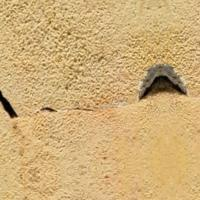crack: (0, 61, 199, 129)
